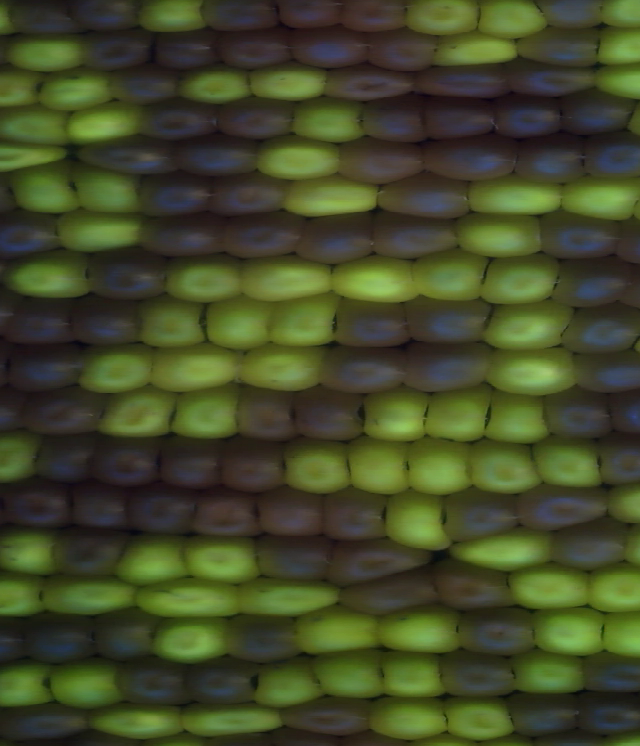fluorescent: (141, 337, 246, 400), (445, 521, 565, 576), (381, 484, 464, 561), (476, 300, 584, 359), (477, 345, 586, 403), (325, 247, 423, 311), (448, 208, 558, 265), (460, 433, 552, 501), (0, 244, 99, 307), (471, 248, 568, 311), (233, 571, 352, 622), (130, 570, 251, 620), (36, 566, 146, 621), (173, 525, 268, 588), (527, 428, 611, 499), (231, 250, 338, 305), (294, 599, 392, 659), (247, 132, 350, 189), (231, 339, 334, 396), (500, 558, 599, 617), (171, 695, 293, 742), (275, 433, 361, 499), (92, 382, 182, 445), (109, 527, 197, 591), (198, 287, 278, 357), (67, 157, 154, 221), (144, 607, 238, 666), (163, 380, 247, 446), (399, 433, 483, 499), (404, 245, 496, 305), (52, 204, 155, 257), (370, 602, 467, 658), (340, 432, 420, 499), (359, 691, 458, 745), (159, 250, 248, 310), (1, 155, 84, 219), (309, 644, 394, 706), (464, 171, 571, 220), (421, 384, 500, 450), (43, 651, 127, 713), (61, 94, 152, 151), (131, 290, 212, 354), (263, 290, 346, 352), (280, 171, 388, 218), (358, 383, 437, 447), (553, 168, 640, 226), (85, 697, 192, 744), (507, 644, 595, 701), (69, 339, 154, 398), (526, 602, 611, 661), (427, 25, 525, 74), (286, 94, 371, 150), (476, 385, 554, 446), (372, 646, 452, 705), (435, 691, 525, 743), (249, 655, 329, 713), (243, 57, 337, 106), (33, 64, 119, 116), (170, 59, 261, 108), (0, 97, 78, 153), (0, 517, 68, 581), (2, 29, 91, 77), (581, 556, 640, 621), (0, 656, 59, 714), (469, 1, 552, 42), (397, 1, 481, 41), (0, 131, 70, 179), (0, 421, 49, 489), (127, 1, 214, 37), (0, 565, 54, 620), (584, 56, 640, 108), (594, 604, 640, 667), (590, 17, 640, 72), (0, 62, 44, 116), (605, 469, 640, 531), (591, 1, 640, 35)
nonfluorescent: (322, 532, 439, 593), (393, 336, 503, 400), (326, 290, 427, 355), (542, 509, 636, 577), (333, 563, 445, 620), (129, 208, 234, 266), (13, 607, 108, 671), (372, 170, 478, 227), (313, 338, 412, 399), (211, 428, 294, 500), (329, 132, 432, 190), (398, 292, 501, 350), (80, 425, 169, 492), (73, 128, 179, 184), (364, 204, 466, 262), (513, 477, 615, 535), (452, 598, 543, 663), (535, 203, 628, 266), (289, 210, 383, 272), (437, 483, 526, 548), (108, 650, 195, 716), (214, 608, 310, 667), (80, 242, 171, 304), (432, 555, 520, 619), (151, 429, 233, 497), (18, 380, 112, 439), (287, 381, 371, 447), (62, 292, 151, 354), (276, 690, 381, 742), (249, 531, 341, 589), (539, 382, 621, 447), (229, 381, 305, 451), (180, 651, 267, 712), (423, 134, 525, 186), (86, 601, 165, 668), (315, 482, 399, 545), (507, 132, 596, 191), (215, 208, 307, 265), (413, 92, 506, 148), (0, 291, 87, 350), (0, 340, 88, 398), (434, 645, 522, 703), (122, 478, 203, 541), (500, 687, 590, 743), (248, 482, 331, 542), (213, 91, 303, 146), (169, 132, 268, 182), (317, 57, 422, 104), (549, 253, 631, 313), (200, 169, 298, 219), (132, 166, 219, 222), (188, 484, 269, 544), (504, 55, 603, 104), (33, 428, 111, 490), (130, 94, 224, 145), (47, 524, 128, 583), (512, 20, 607, 70), (408, 60, 521, 102), (358, 91, 437, 151), (62, 478, 137, 540), (76, 23, 159, 78), (206, 23, 293, 75), (0, 472, 74, 533), (555, 84, 640, 137), (556, 301, 640, 354), (488, 90, 571, 143), (359, 25, 445, 76), (284, 25, 378, 71), (568, 685, 640, 745), (0, 206, 71, 265), (0, 701, 97, 744), (148, 22, 224, 75), (566, 346, 640, 400), (107, 60, 183, 112), (193, 1, 291, 38), (3, 1, 89, 42), (580, 127, 640, 184), (333, 1, 419, 39), (577, 647, 640, 697), (591, 427, 640, 491), (61, 1, 143, 39), (527, 1, 617, 34), (267, 1, 350, 34), (602, 380, 640, 442), (0, 382, 35, 442), (0, 610, 30, 672), (609, 213, 640, 270)
